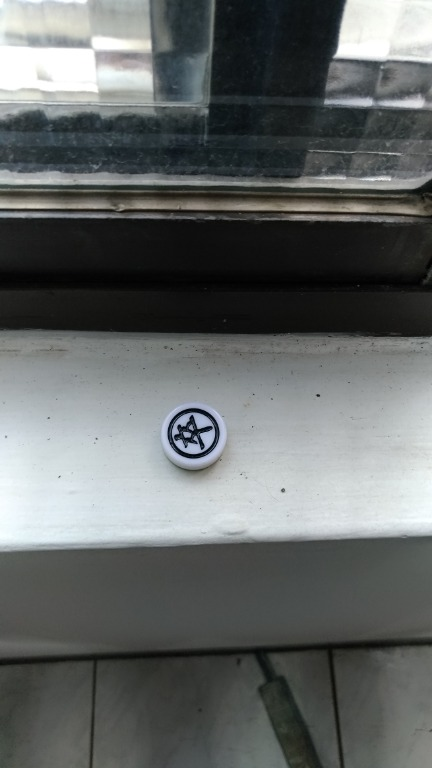b-pawn: (151, 389, 243, 478)
